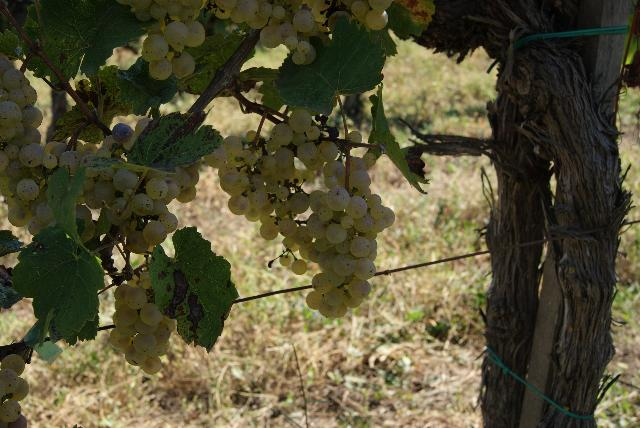grapes: (284, 158, 395, 319), (205, 136, 312, 250), (0, 56, 58, 234), (42, 142, 102, 242), (264, 110, 339, 170), (8, 178, 55, 235)
